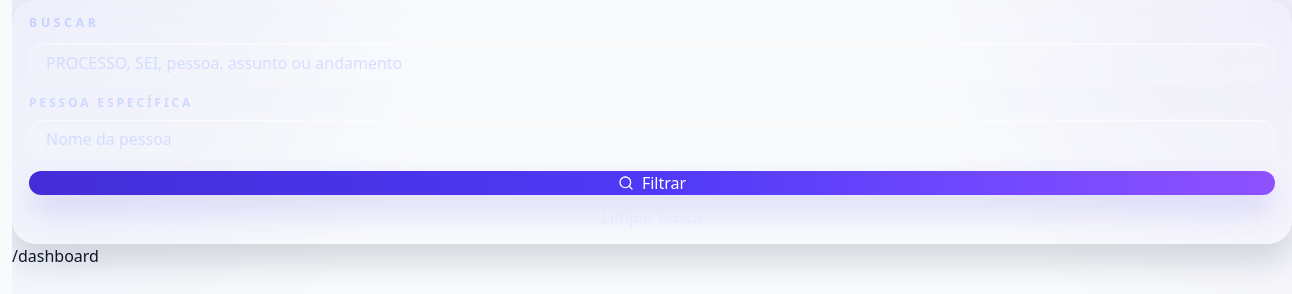
Test: QuickProcessSearch › encaminha a busca da barra lateral ao mecanismo global
Step 1. Type "Google Drive" into the field named "Buscar processo rapido" → (652, 63), box [29, 43, 1275, 83]
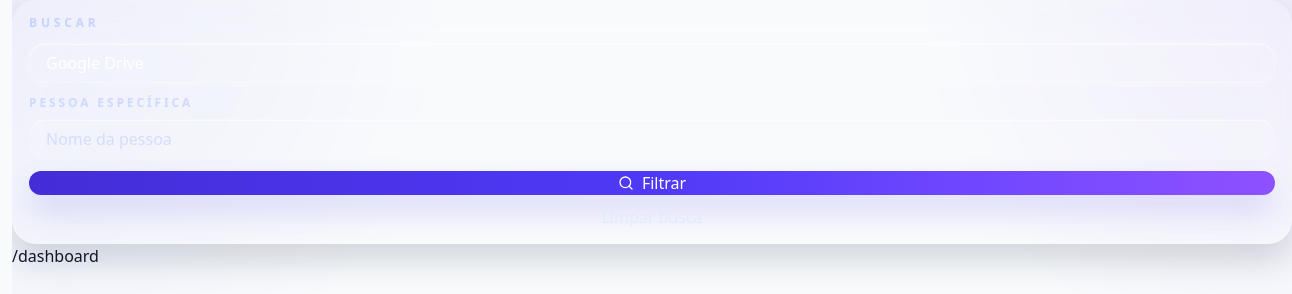
Step 2. Click the button "Filtrar" → (652, 183), box [29, 171, 1275, 195]
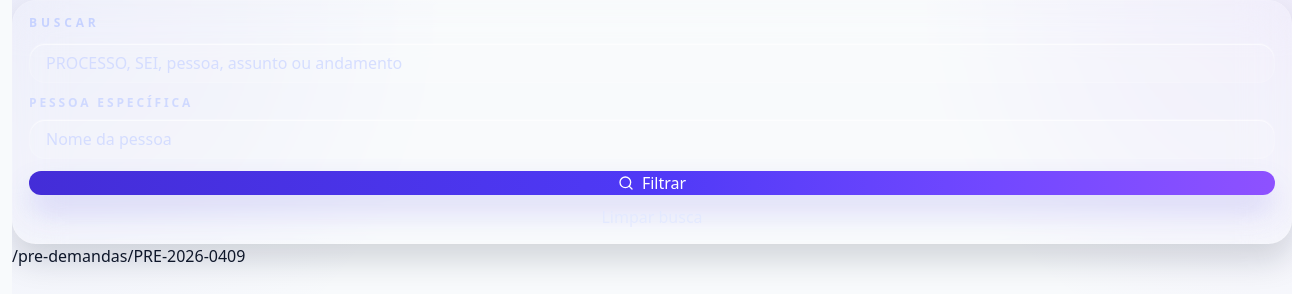
Result: the text with test id "location" reads "/pre-demandas/PRE-2026-0409" at [12, 245, 245, 267]
